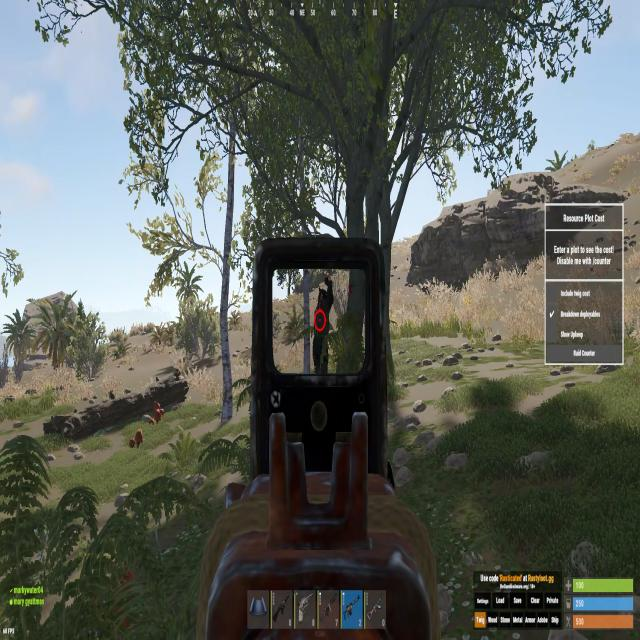Player: (312, 275, 335, 374)
